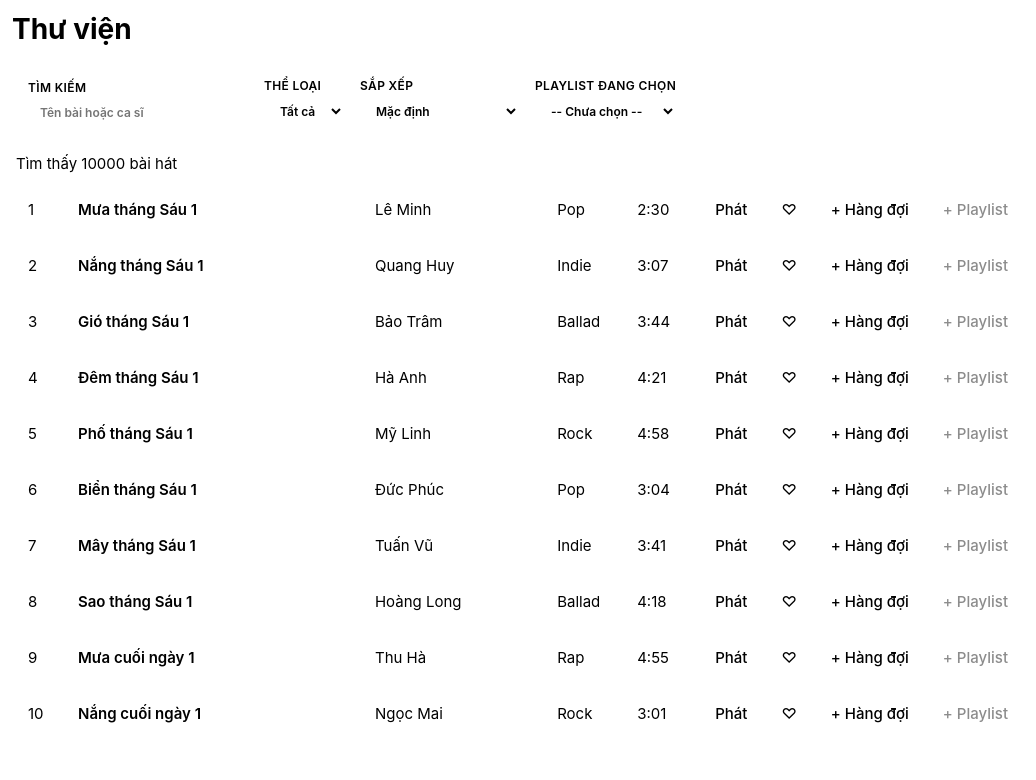
Test: LibraryPage › lọc thể loại Rock còn 2000 bài, gõ xyz thì không tìm thấy
Select "Rock" in the dropdown labelled "Thể loại" at [304, 112], box [264,97,344,126]
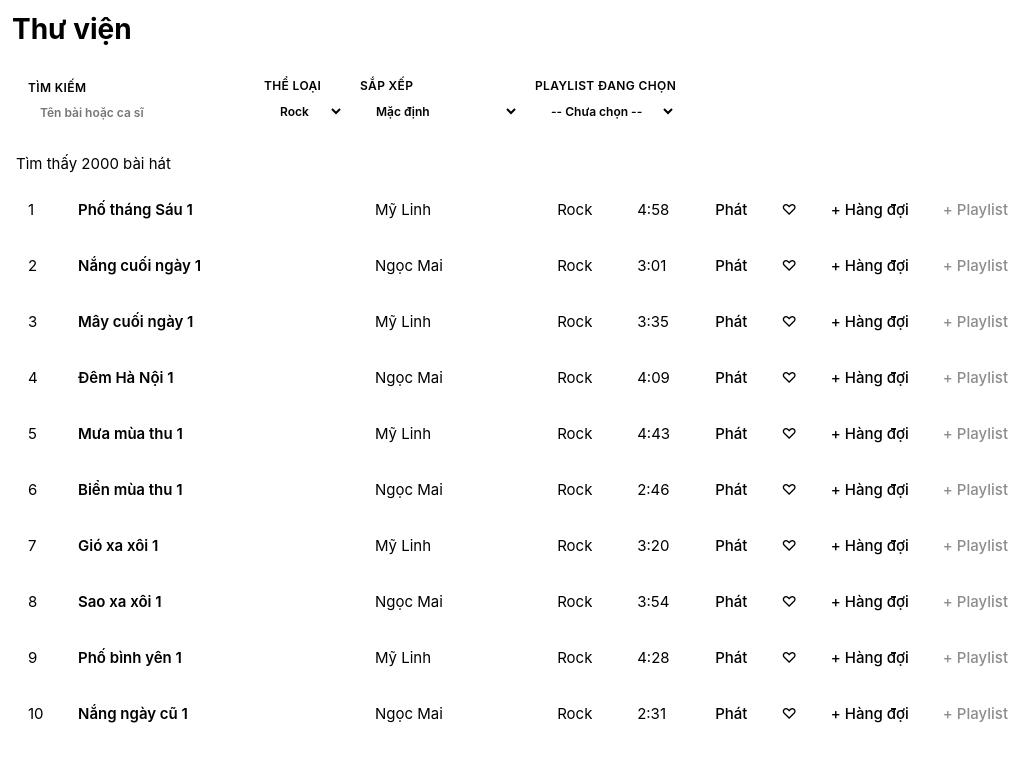
Expected: the text "Tìm thấy 2000 bài hát" is shown, [16,154,171,173]
Type "xyz" into the search field labelled "Tìm kiếm" at [138, 112], box [28,99,248,126]
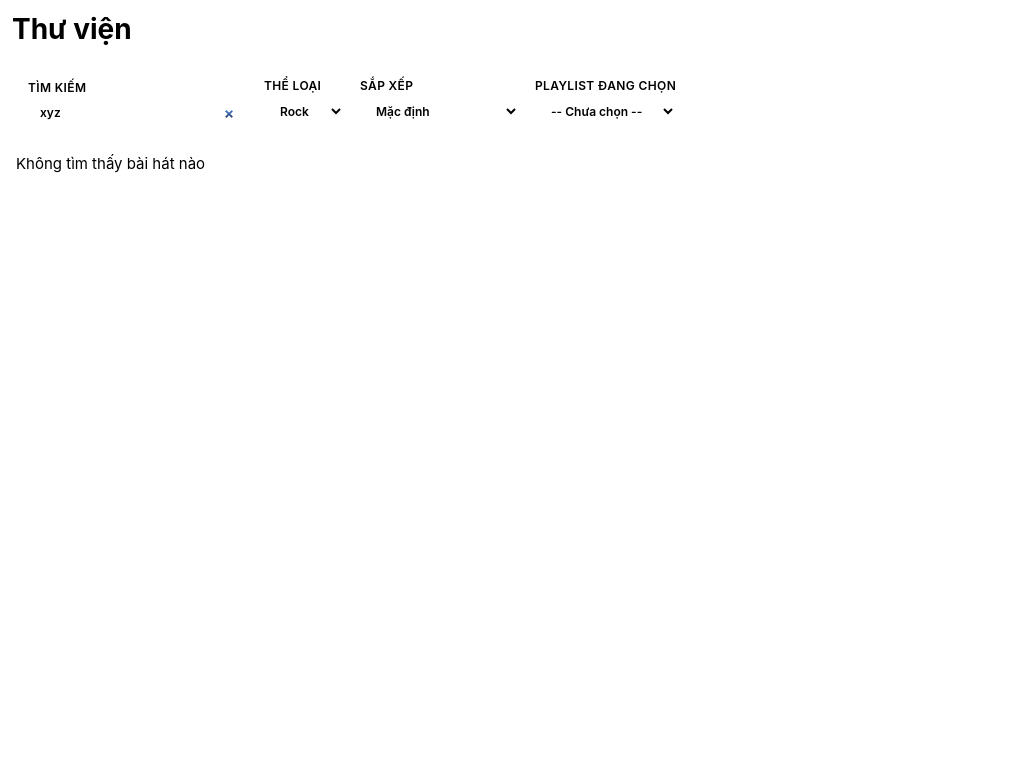
Expected: the text "Không tìm thấy bài hát nào" is shown, [16,154,205,173]
